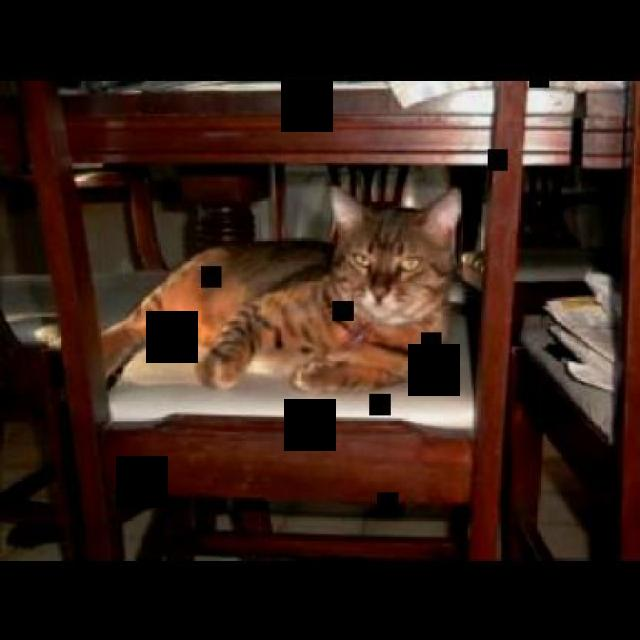unauthorized: (34, 183, 466, 394)
